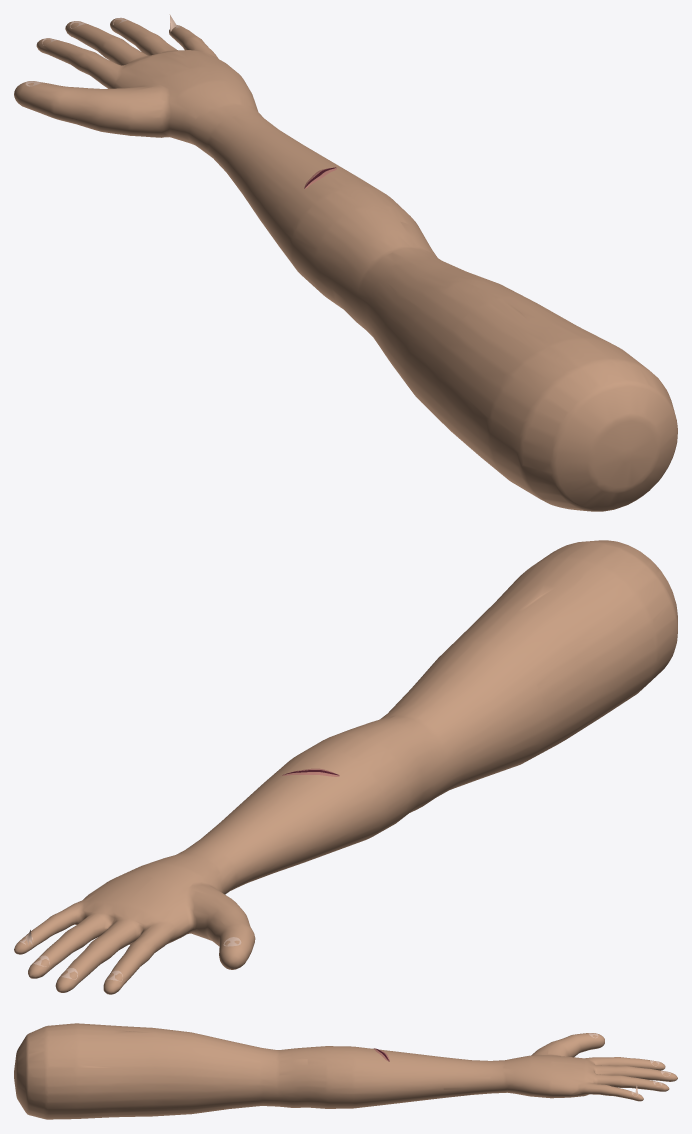
Rendered from EDU_BleedingArm.glb.
The picture shows the model from 3 angles, top to bottom: view 1: azimuth 30°, elevation 25°; view 2: azimuth 150°, elevation 25°; view 3: azimuth 270°, elevation 25°; orthographic projection. The views are drawn at different scales.
Visible parts, largest first — view 1: Arm_Body; view 2: Arm_Body; view 3: Arm_Body.
Part boxes in pixels (left/top/right/bottom): Arm_Body: left=14, top=18, right=677, bottom=511; Arm_Body: left=14, top=540, right=677, bottom=994; Arm_Body: left=14, top=1023, right=677, bottom=1119.
Bounding box in the file's own units: 0.1547 × 0.1077 × 0.7642.
